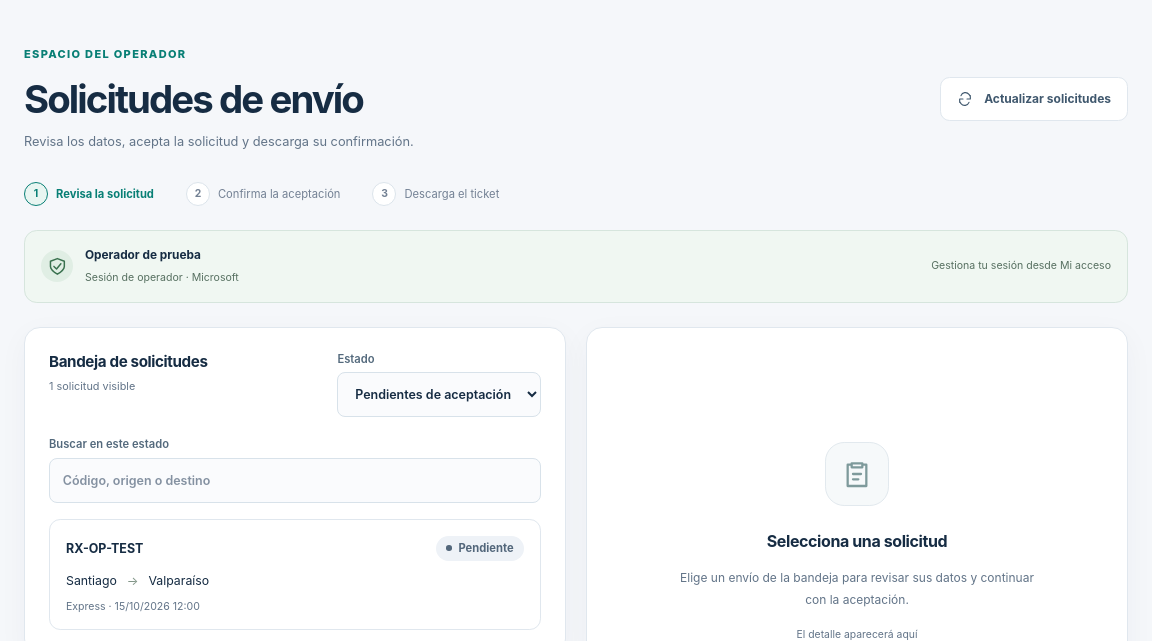
Test: Operator workflow › busca por código o ruta sin distinguir tildes ni solicitar otra lista a la API
Click the button with class "secondary". click: {"x": 1034, "y": 99}
box: 940,77 -> 1128,121
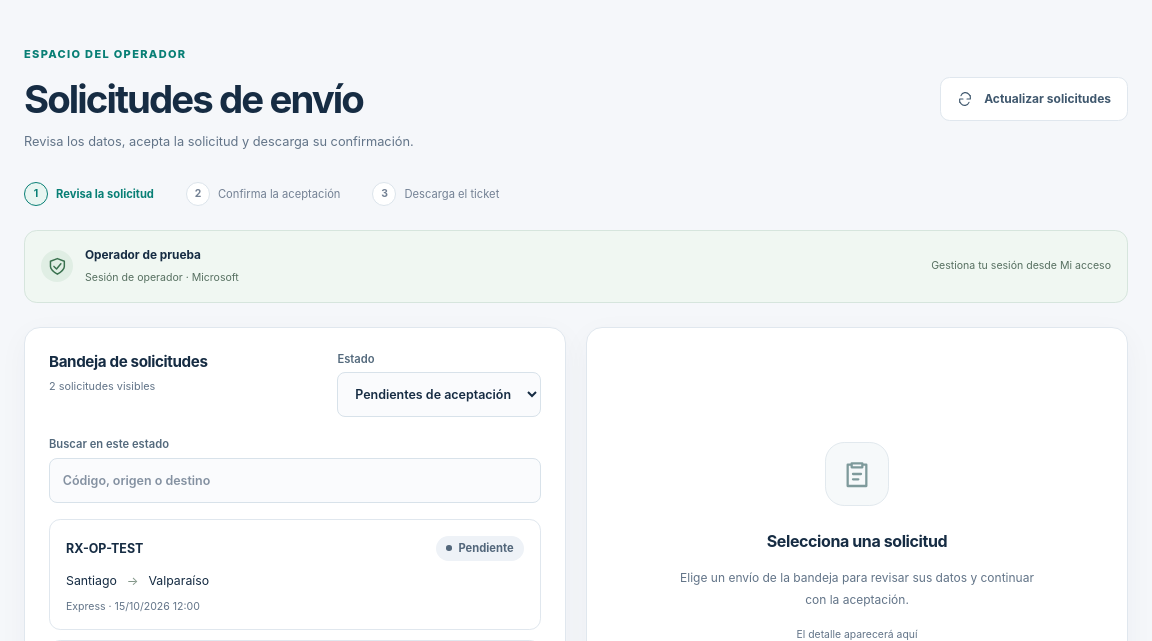
Type "valparaiso" into the search field labelled "Buscar en este estado". click: {"x": 295, "y": 480}
box: 49,458 -> 541,503
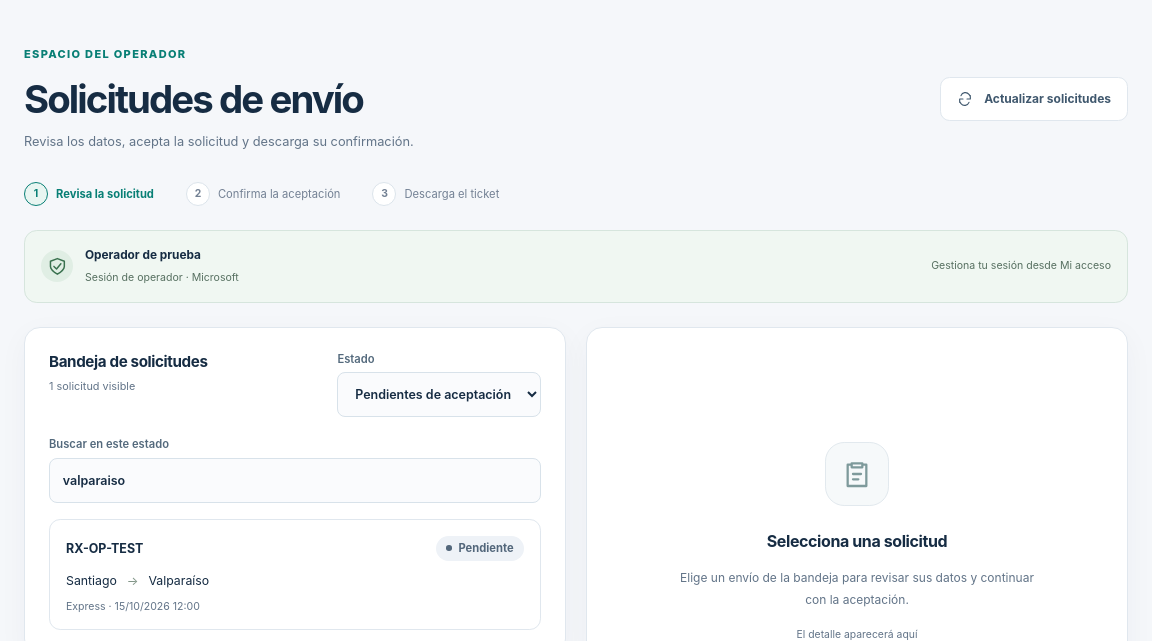
Check: the text "RX-OP-TEST" is shown, box 66,541 -> 143,556
Check: the number of buttons with class "request" is 1, box 49,519 -> 541,630
Replace the text in the search field labelled "Buscar en este estado" with "rx-sur". click: {"x": 295, "y": 480}
box: 49,458 -> 541,503
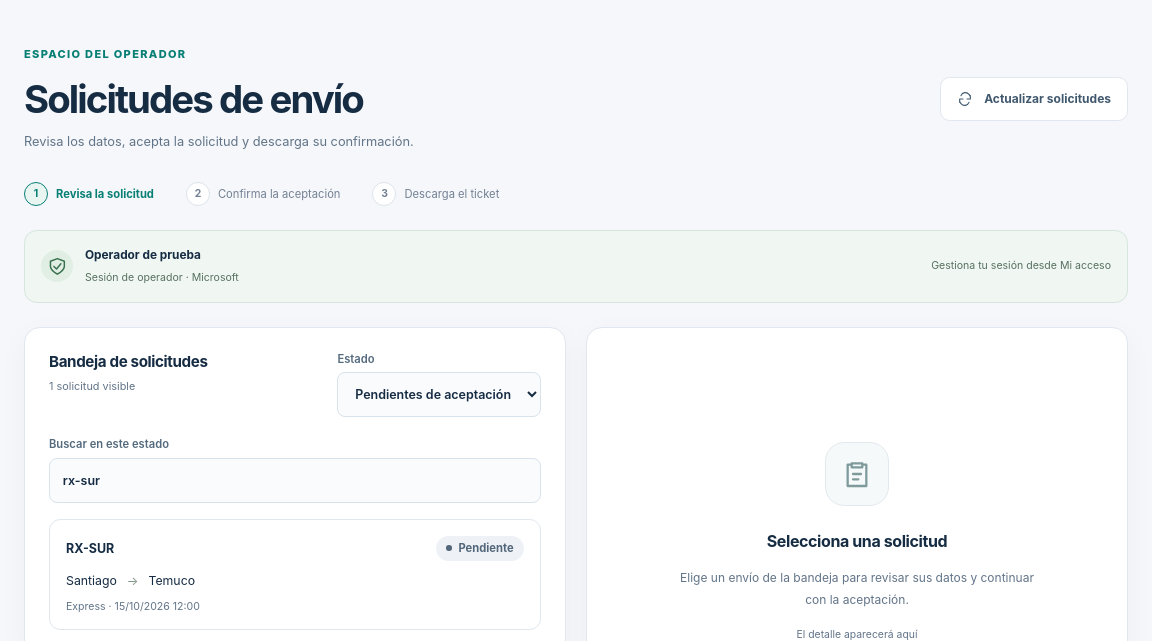
Check: the number of buttons with class "request" is 1, box 49,519 -> 541,630
Check: the text "Temuco" is shown, box 145,573 -> 195,588
Replace the text in the search field labelled "Buscar en este estado" with "sin-coincidencias". click: {"x": 295, "y": 480}
box: 49,458 -> 541,503
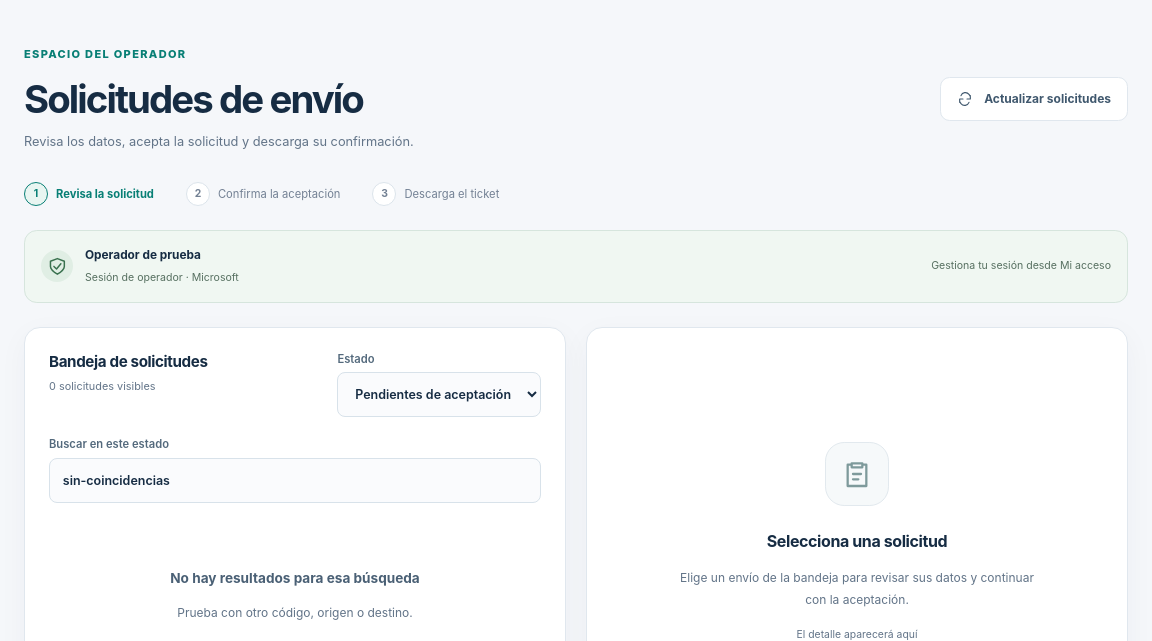
Check: the text "No hay resultados para esa búsqueda" is shown, box 170,570 -> 420,586
